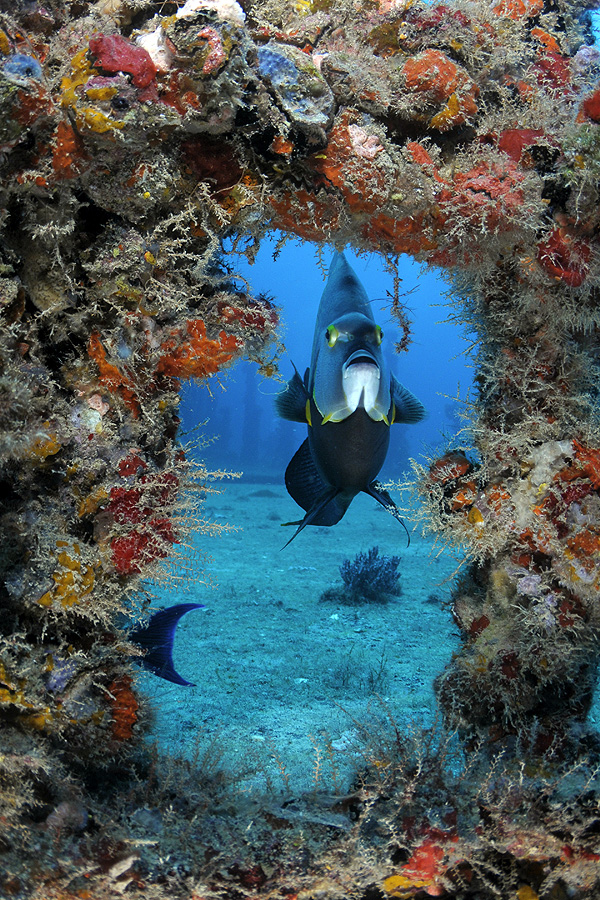Pomacanthus_paru: (276, 236, 437, 557)
